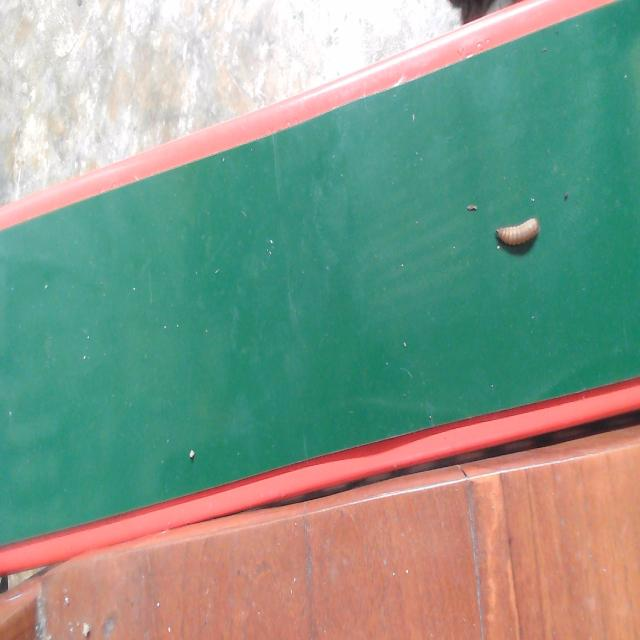Maggot: (494, 217, 541, 258)
